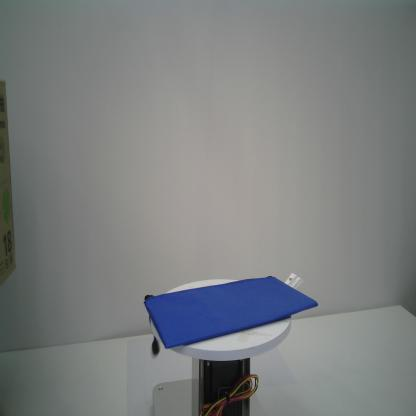Stationery: (140, 268, 320, 362)
